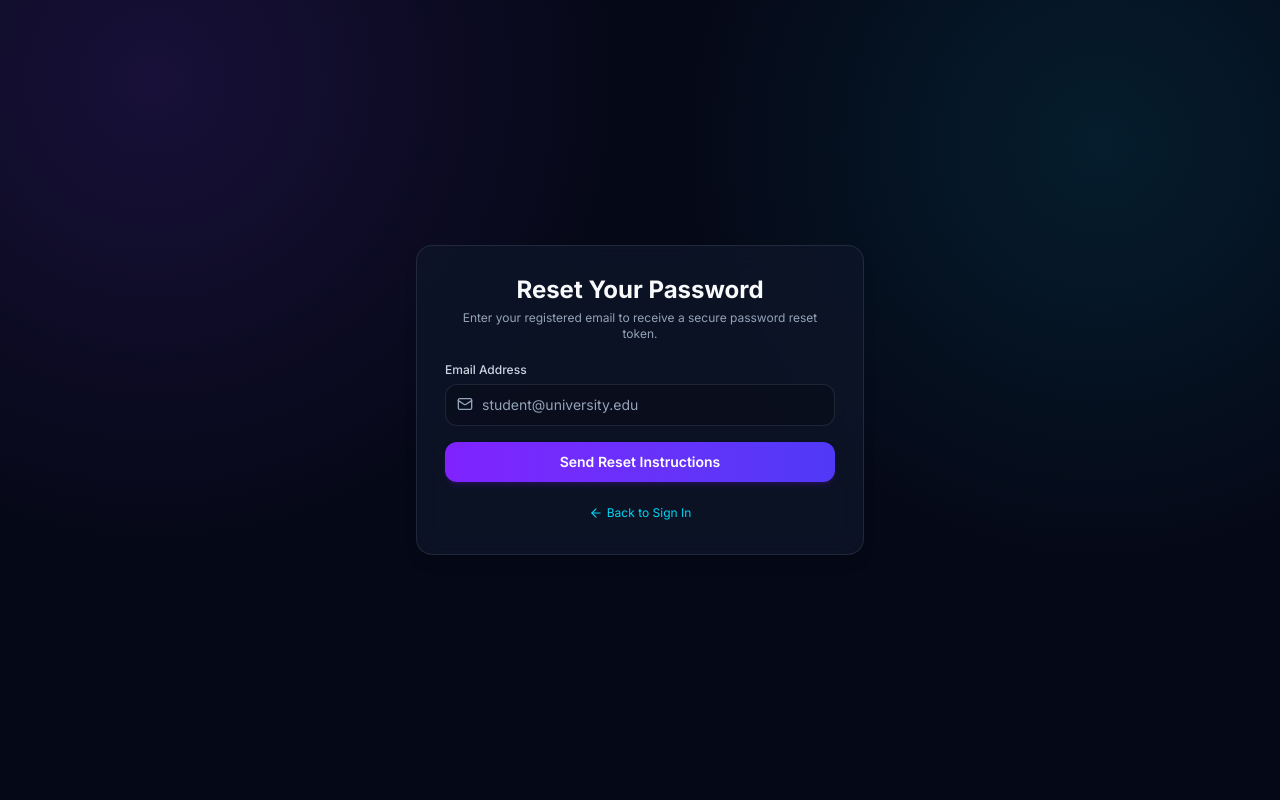
UNIFORGE AI UI Primitives & Auth Validation › validates Forgot Password email field with Zod
The image size is (1280, 800).
Click the button "Send Reset Instructions" at (640, 462), box [445,442,835,482]
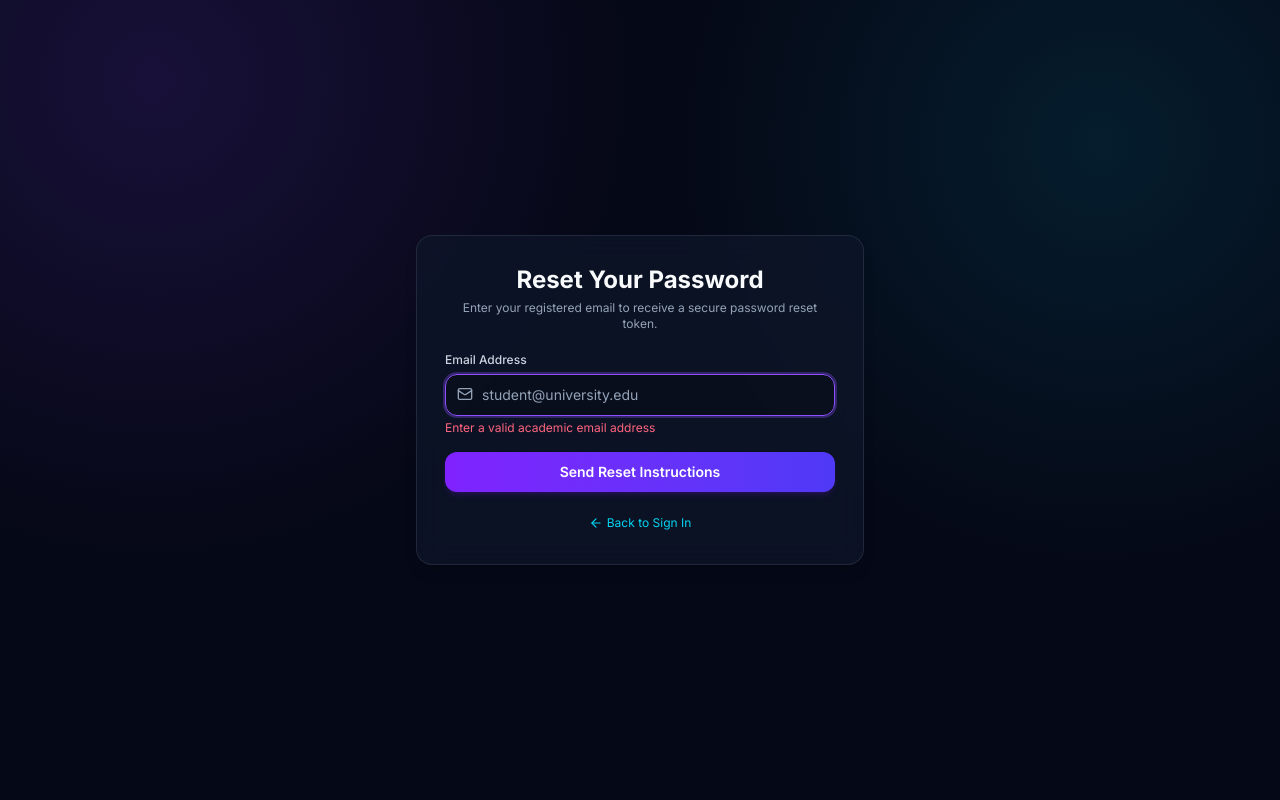
Expected: the text "Enter a valid academic email address" is shown, [445,420,655,435]
